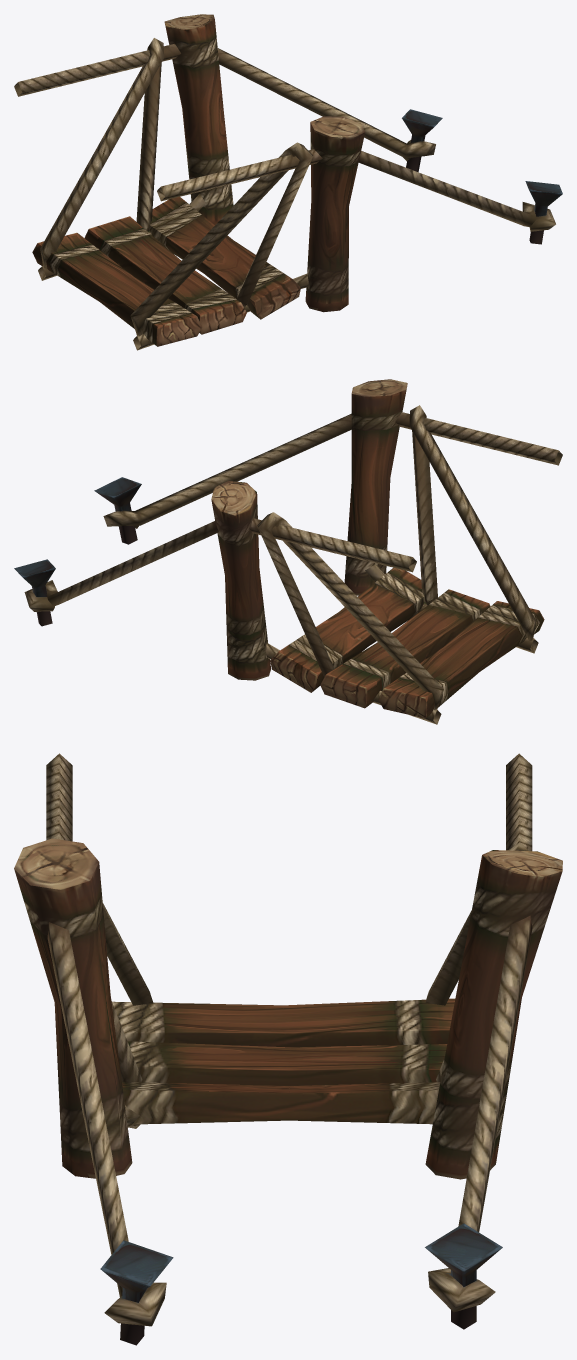
Rendered from rope_bridge_start_l.fbx.
3 views of the same model, one above another, from view 1: azimuth 30°, elevation 25°; view 2: azimuth 150°, elevation 25°; view 3: azimuth 270°, elevation 25° (orthographic). The views are drawn at different scales.
Visible parts, largest first — view 1: rope_bridge_start_l; view 2: rope_bridge_start_l; view 3: rope_bridge_start_l.
Part boxes in pixels (x1,y1,x2,y2): rope_bridge_start_l: (14,14,562,350); rope_bridge_start_l: (14,379,562,724); rope_bridge_start_l: (14,753,562,1345).
Bounding box in the file's own units: 271 × 123 × 186.
